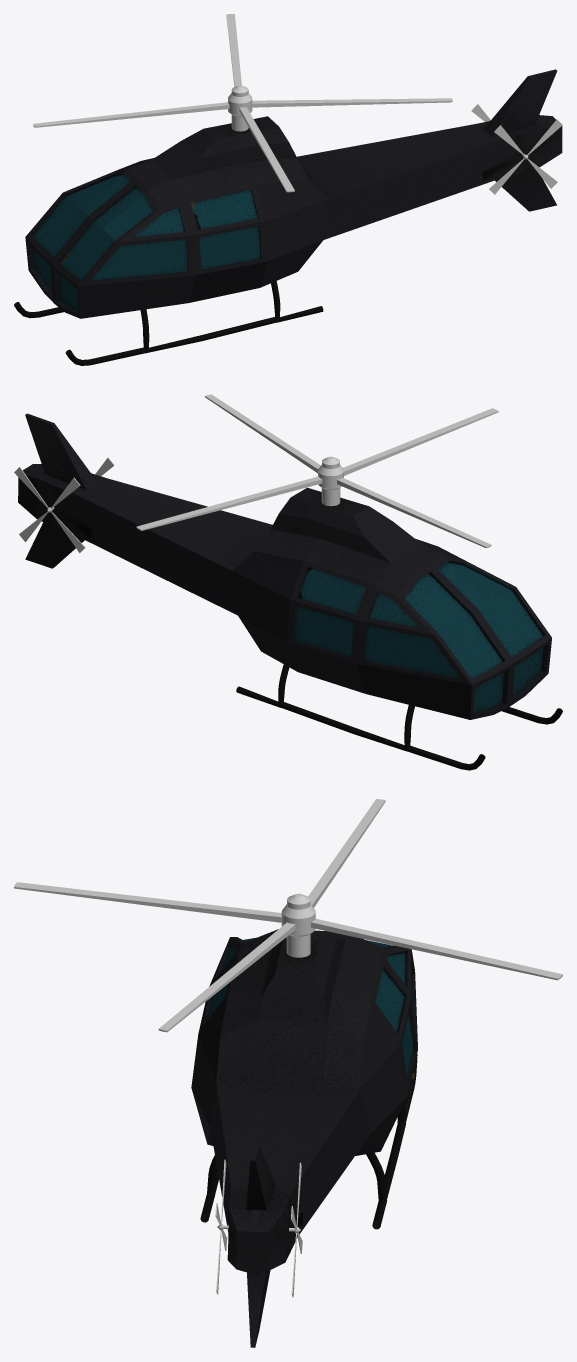
File: anim_000239.obj
3 renders of one model, top to bottom at view 1: azimuth 30°, elevation 25°; view 2: azimuth 150°, elevation 25°; view 3: azimuth 270°, elevation 25°, orthographic. The views are drawn at different scales.
Parts seen in each view (by area): view 1: Helicopter.007_Cylinder.008, Helicopter.001_Cylinder.001, Helicopter.003_Cylinder.004; view 2: Helicopter.007_Cylinder.008, Helicopter.001_Cylinder.001, Helicopter.004_Cylinder.005; view 3: Helicopter.007_Cylinder.008, Helicopter.001_Cylinder.001.
Boxes of the visible parts, x1,y1,x2,y2 form: Helicopter.007_Cylinder.008: (14, 69, 562, 365); Helicopter.001_Cylinder.001: (33, 14, 452, 192); Helicopter.003_Cylinder.004: (489, 119, 562, 194); Helicopter.007_Cylinder.008: (18, 413, 562, 770); Helicopter.001_Cylinder.001: (136, 394, 498, 548); Helicopter.004_Cylinder.005: (14, 467, 85, 552); Helicopter.007_Cylinder.008: (191, 929, 417, 1347); Helicopter.001_Cylinder.001: (14, 799, 562, 1032).
Size of the model in its own units: 7.55 by 3.21 by 5.2.
